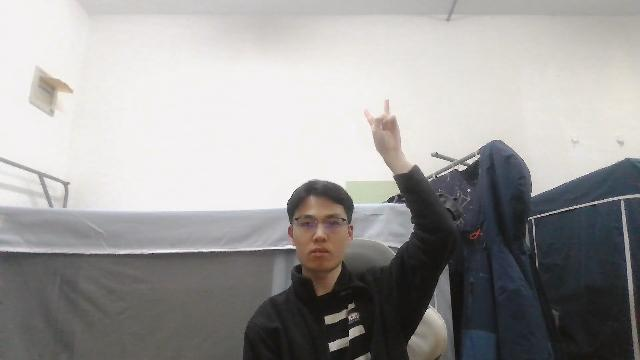yes: (362, 95, 405, 162)
